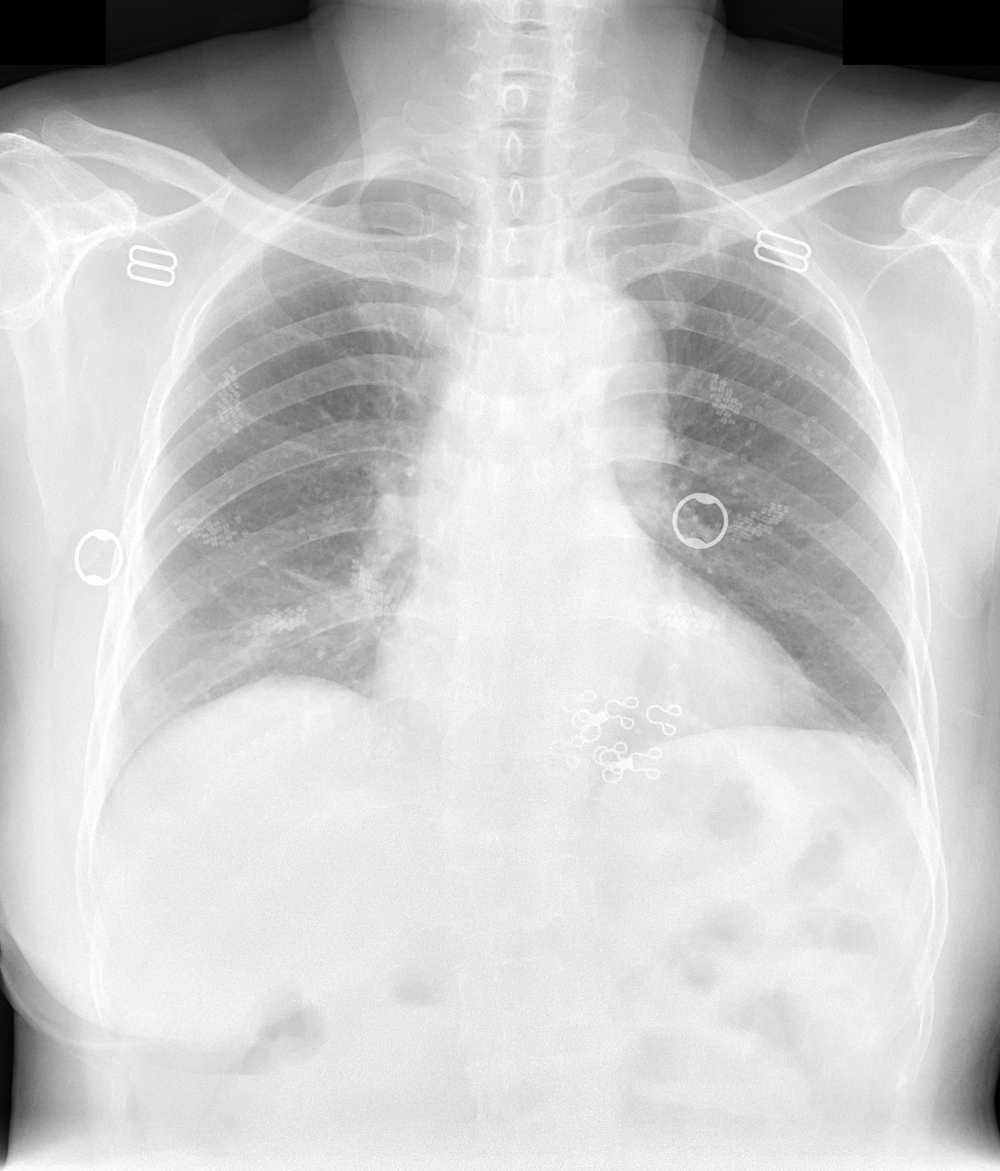Aortic enlargement: (522, 279, 670, 493)
Cardiomegaly: (370, 624, 823, 760)
